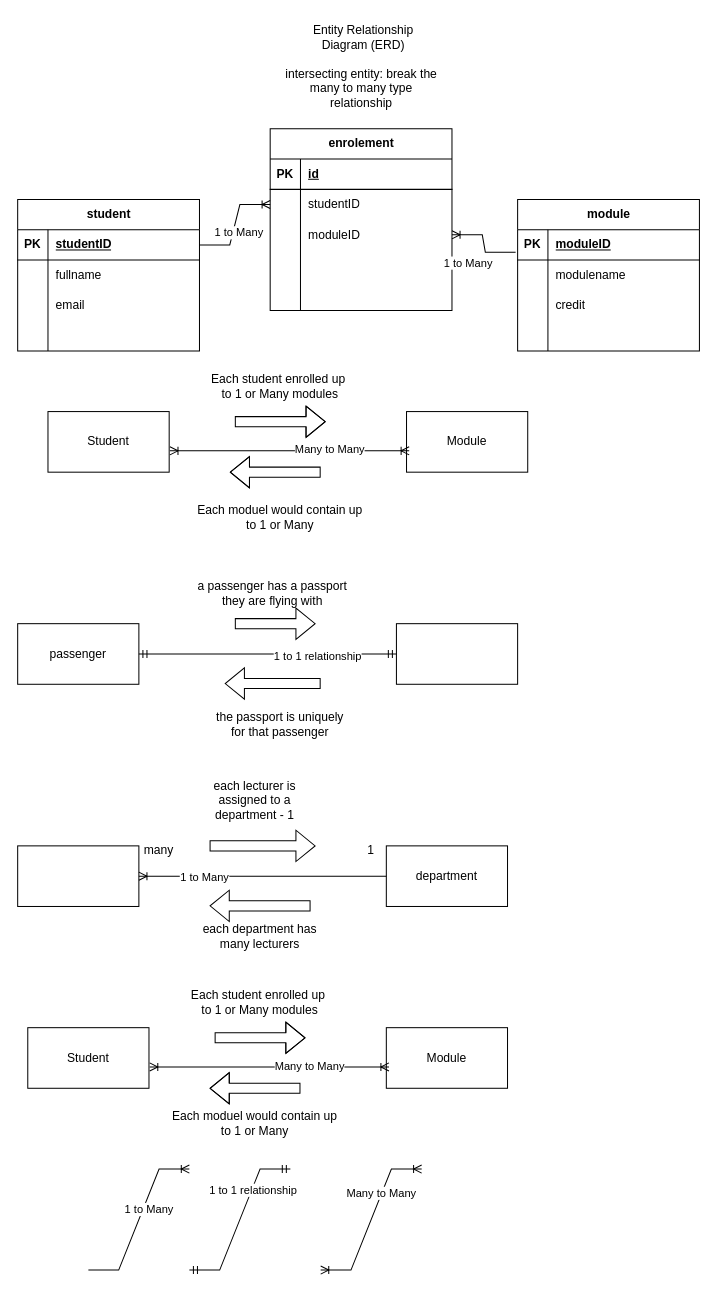
This 717x1297 diagram has some shape labels left out. Here are the shapes that lost their labels. From the top down, the centre of each, then its label:
At point (456, 653): "passport".
At point (78, 875): "lecturer".
